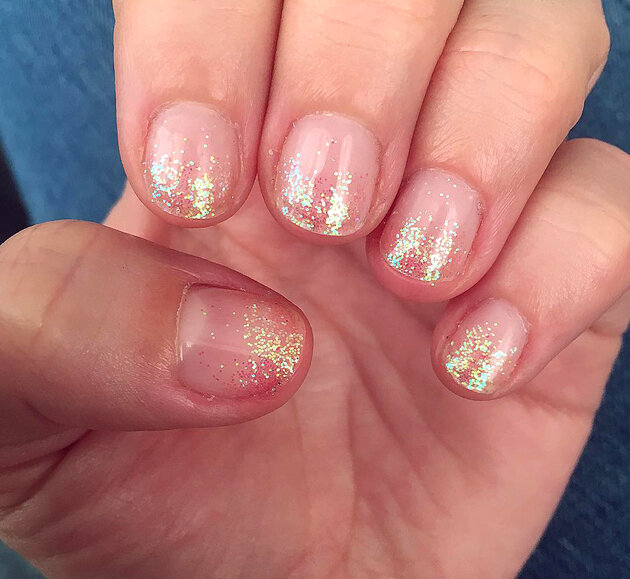nails: (169, 274, 315, 403), (269, 102, 385, 242), (139, 94, 250, 228), (376, 162, 479, 290), (436, 293, 528, 400)
